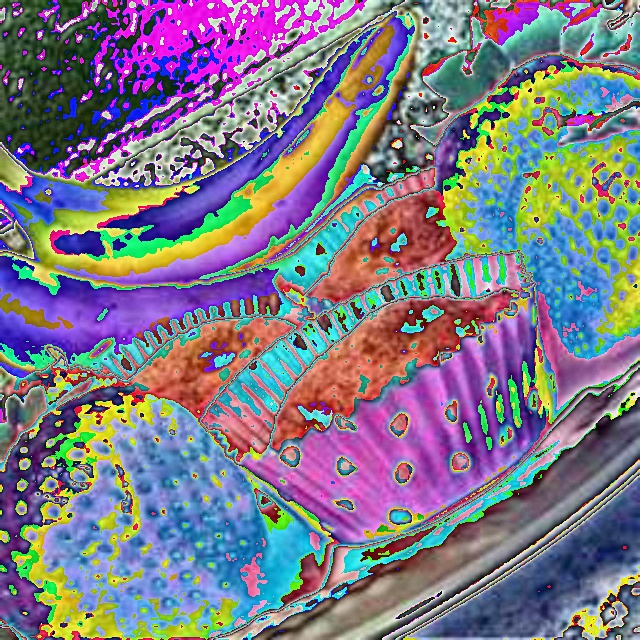background: (0, 8, 420, 639), (305, 0, 639, 368), (253, 163, 522, 447)
